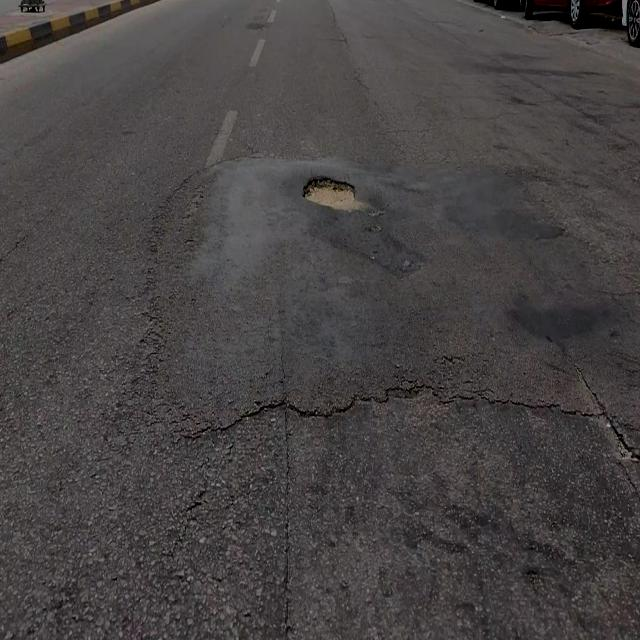Potholes: (303, 173, 358, 216)
